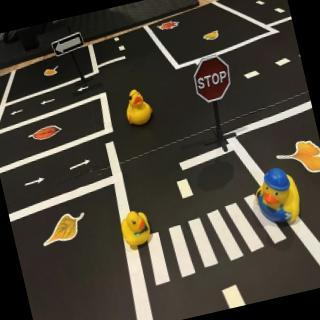duck_regular: (117, 206, 155, 252)
duck_specialty: (247, 159, 309, 232), (120, 86, 158, 132)
road_crosswalk: (138, 187, 293, 288)
road_oneway: (67, 157, 93, 173), (22, 176, 47, 191), (8, 106, 27, 118), (40, 97, 58, 107), (76, 84, 92, 94)
sign_oneway_left: (51, 33, 88, 57)
sign_stop: (191, 54, 236, 106)
